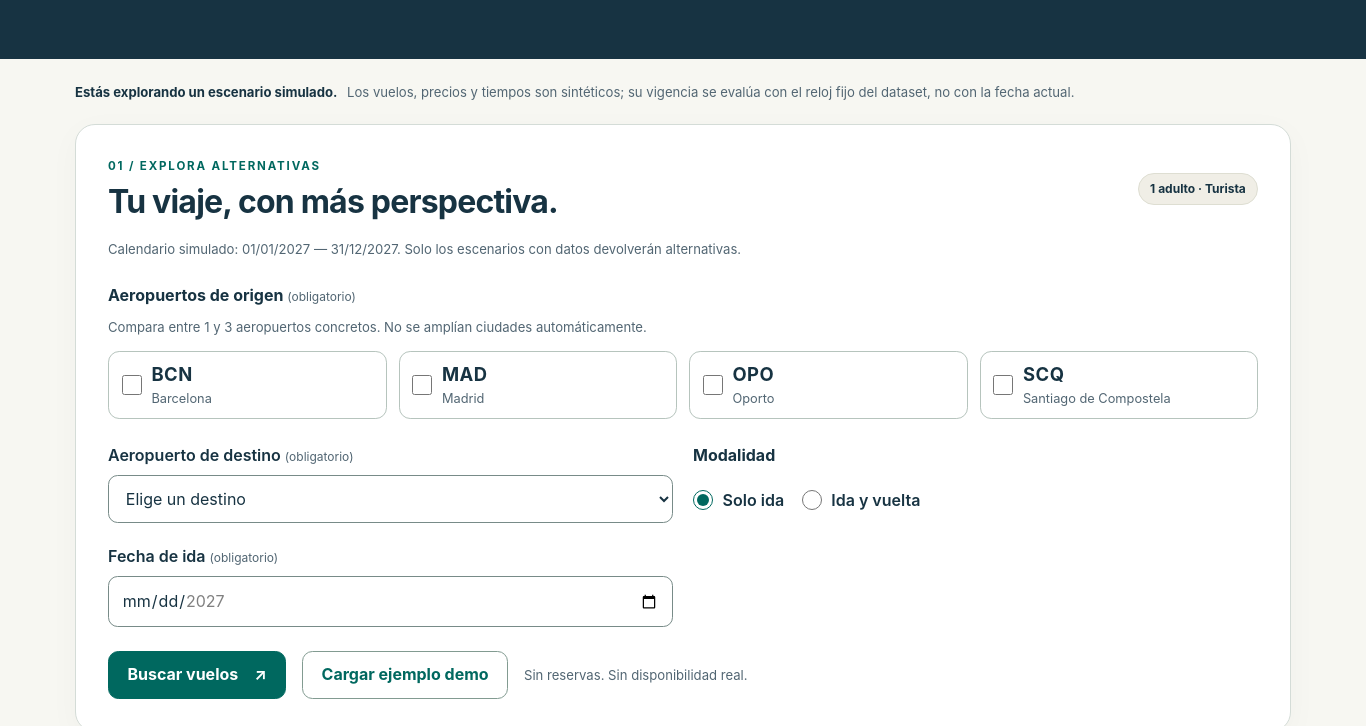
Test case: experiencia Airwise demo › no envía la consulta si origen y destino coinciden
(page scrolled)
Click the checkbox labelled "OPO Oporto" at [713, 385], box [703, 375, 723, 395]
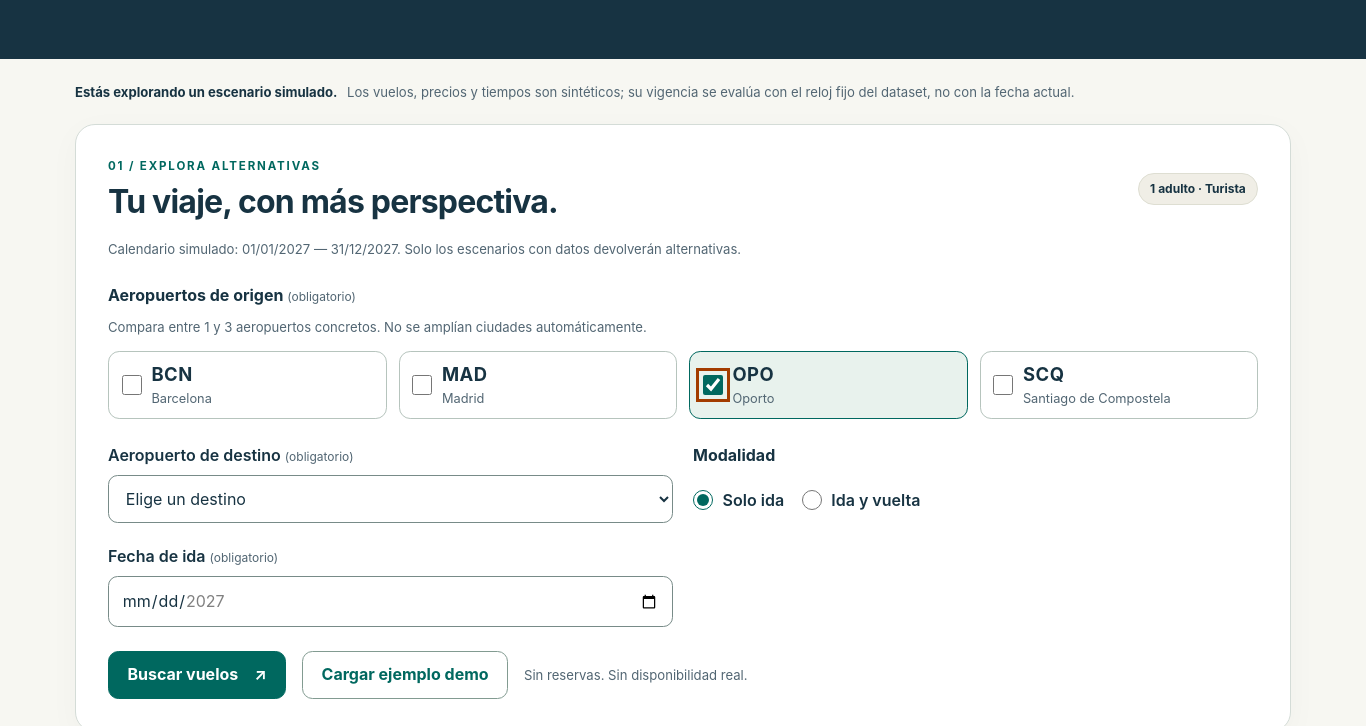
Select "MAD · Madrid" in the dropdown labelled "Aeropuerto de destino (obligatorio)" at [390, 499], box [108, 475, 673, 523]
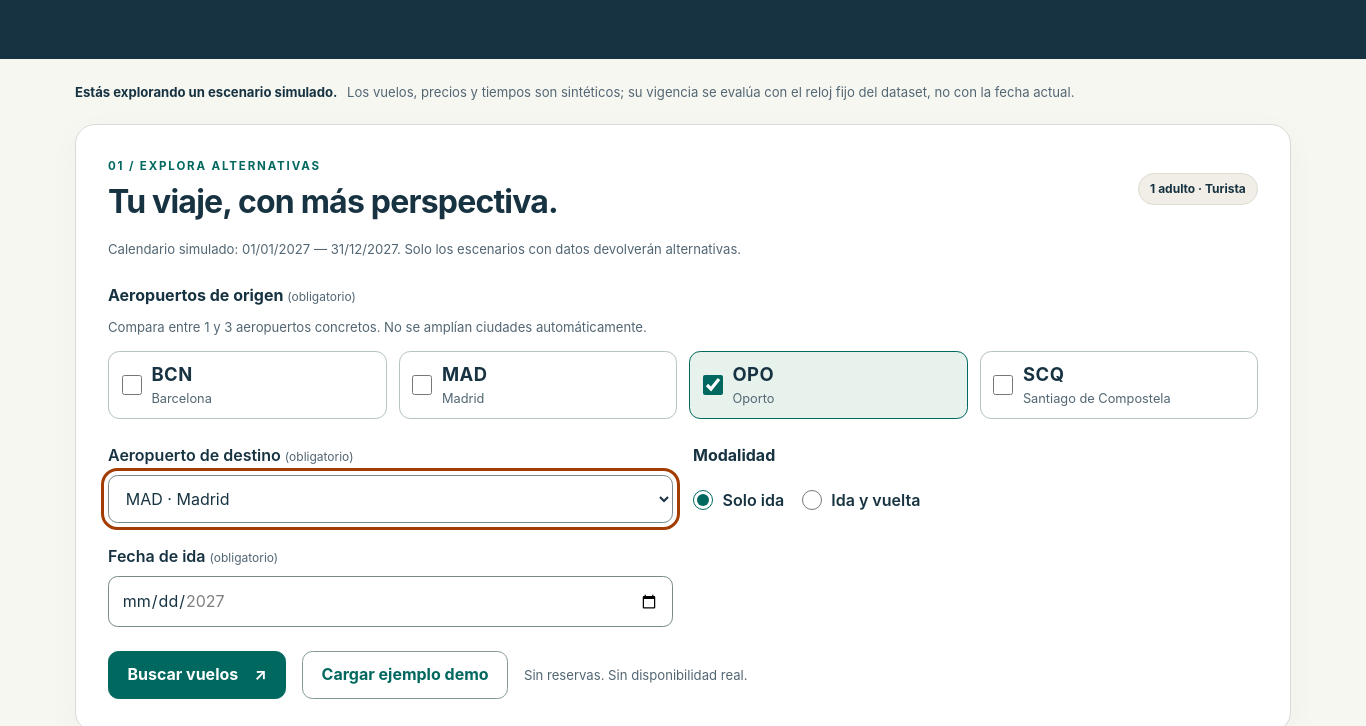
Click the radio button labelled "Solo ida" at [703, 500], box [693, 490, 713, 510]
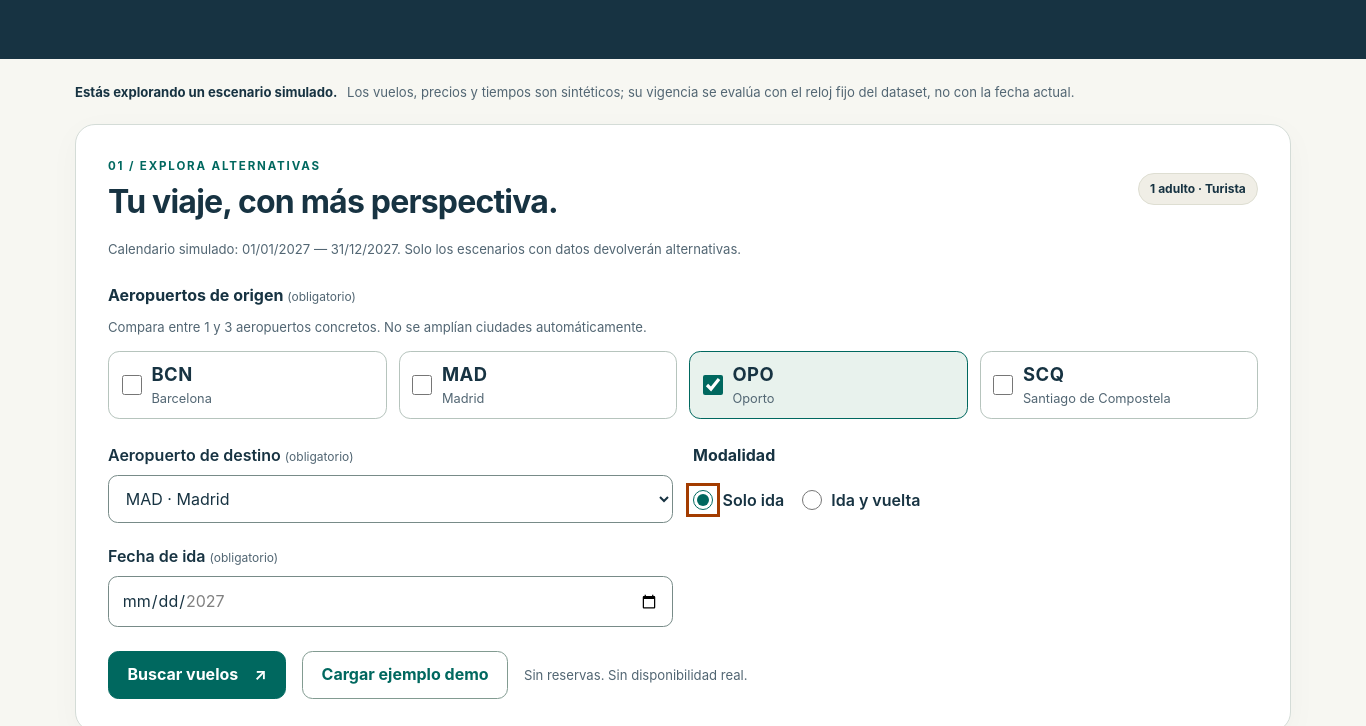
Type "2027-02-10" into the date field labelled "Fecha de ida (obligatorio)" at [390, 602], box [108, 576, 673, 627]
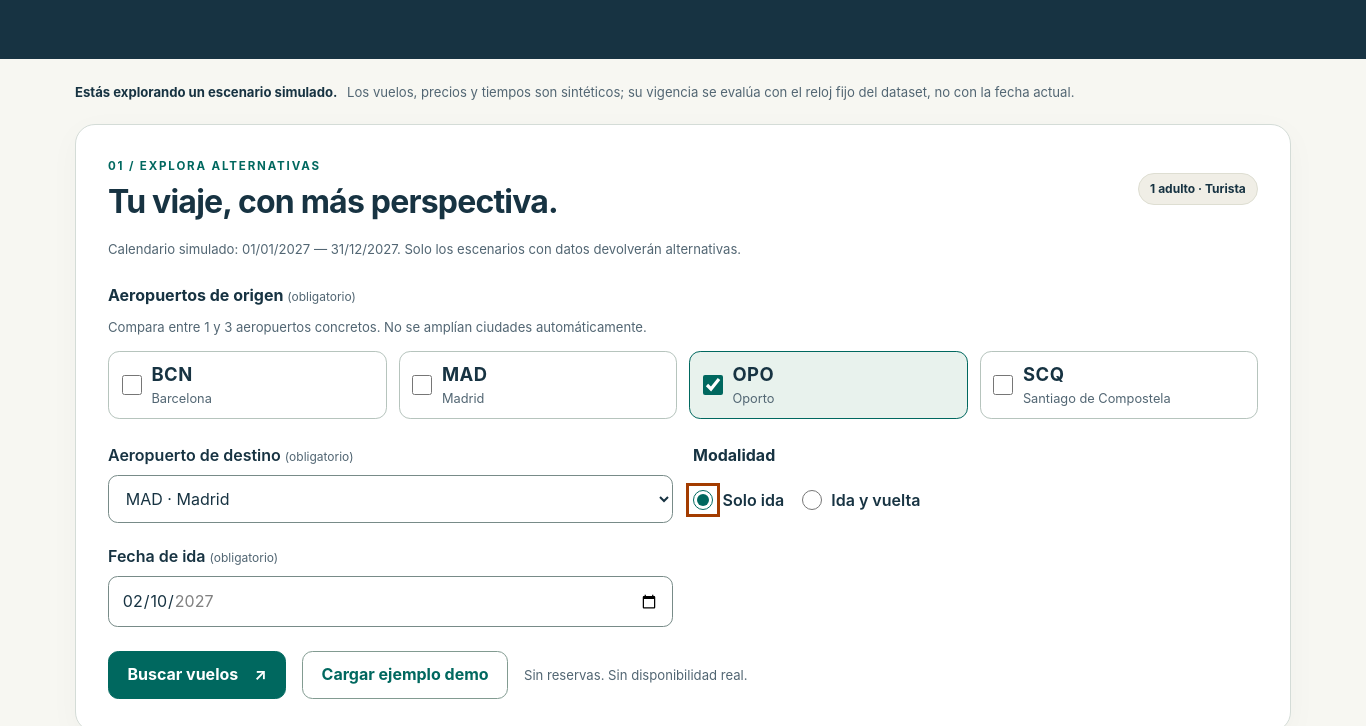
Select "OPO · Oporto" in the dropdown labelled "Aeropuerto de destino (obligatorio)" at [390, 499], box [108, 475, 673, 523]
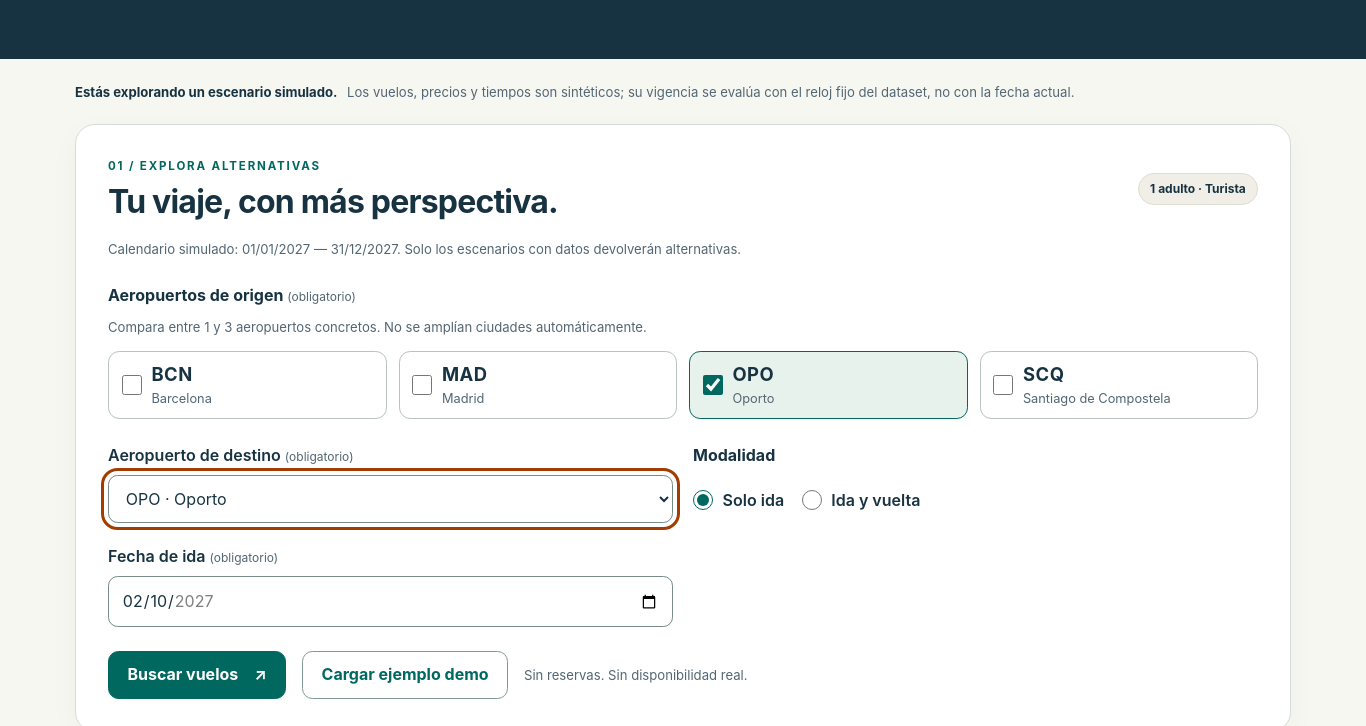
Click the button "Buscar vuelos ↗" at [197, 675], box [108, 651, 286, 699]
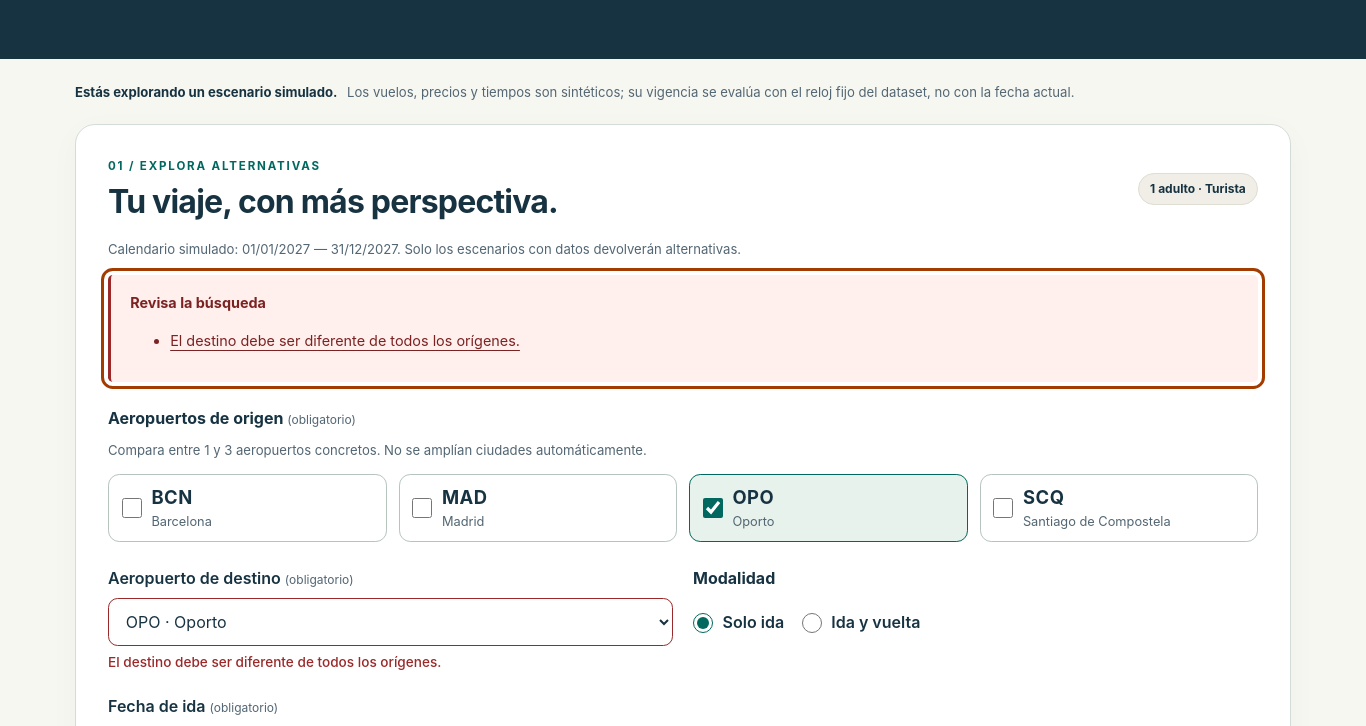
Expected: the text "Revisa la búsqueda" is shown, [130, 294, 266, 311]
